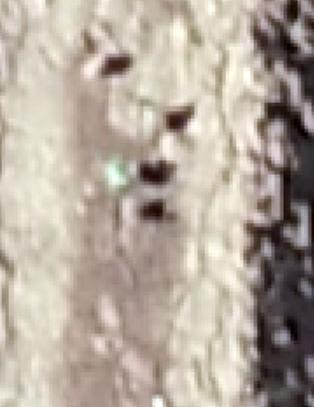cotton: (107, 160, 131, 189)
